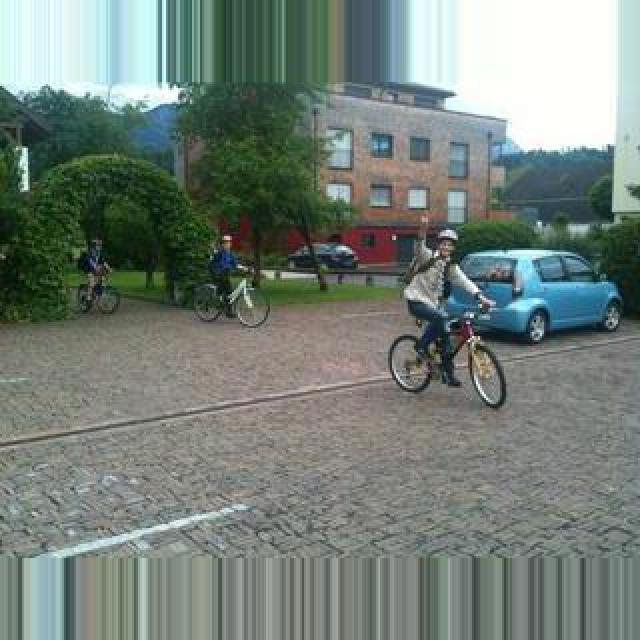Bus-Bike: (458, 246, 624, 344), (286, 244, 360, 270)
MC-Bike: (402, 230, 492, 390), (208, 236, 244, 314), (78, 234, 110, 306)
Person: (390, 304, 510, 408), (194, 270, 270, 326), (76, 270, 120, 314)
